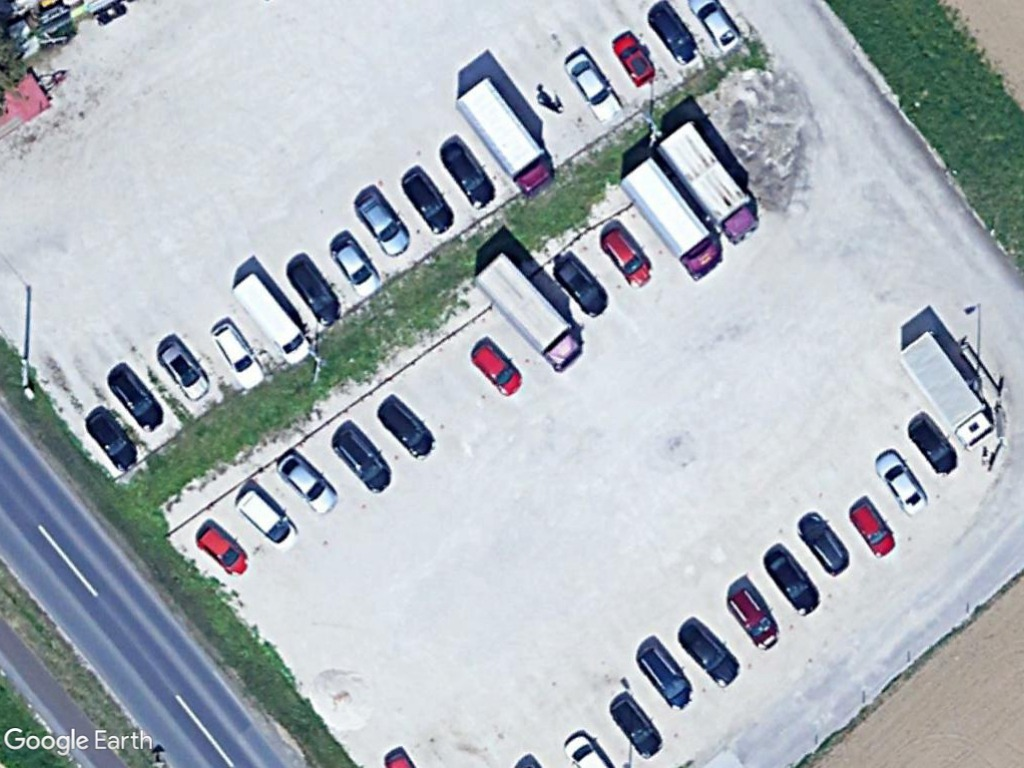car: (760, 544, 824, 623), (675, 621, 744, 693), (102, 365, 168, 436), (372, 396, 439, 464), (560, 53, 622, 124), (327, 427, 392, 494), (720, 585, 784, 653), (206, 319, 265, 392), (286, 261, 348, 330), (352, 190, 413, 260), (397, 168, 457, 239), (550, 253, 613, 319), (605, 694, 667, 760), (438, 141, 497, 210), (276, 451, 338, 516), (597, 223, 655, 292), (872, 448, 930, 517), (155, 339, 215, 403), (81, 408, 141, 472), (795, 512, 853, 577), (465, 339, 526, 399), (325, 236, 382, 298), (905, 411, 959, 476), (645, 0, 697, 64), (605, 29, 658, 91), (847, 497, 899, 560), (194, 524, 252, 578)
truck: (617, 154, 728, 284), (654, 118, 764, 246), (473, 253, 587, 375), (449, 73, 558, 198), (894, 333, 995, 449)
van: (231, 271, 316, 367), (628, 638, 697, 712), (231, 491, 302, 552)
